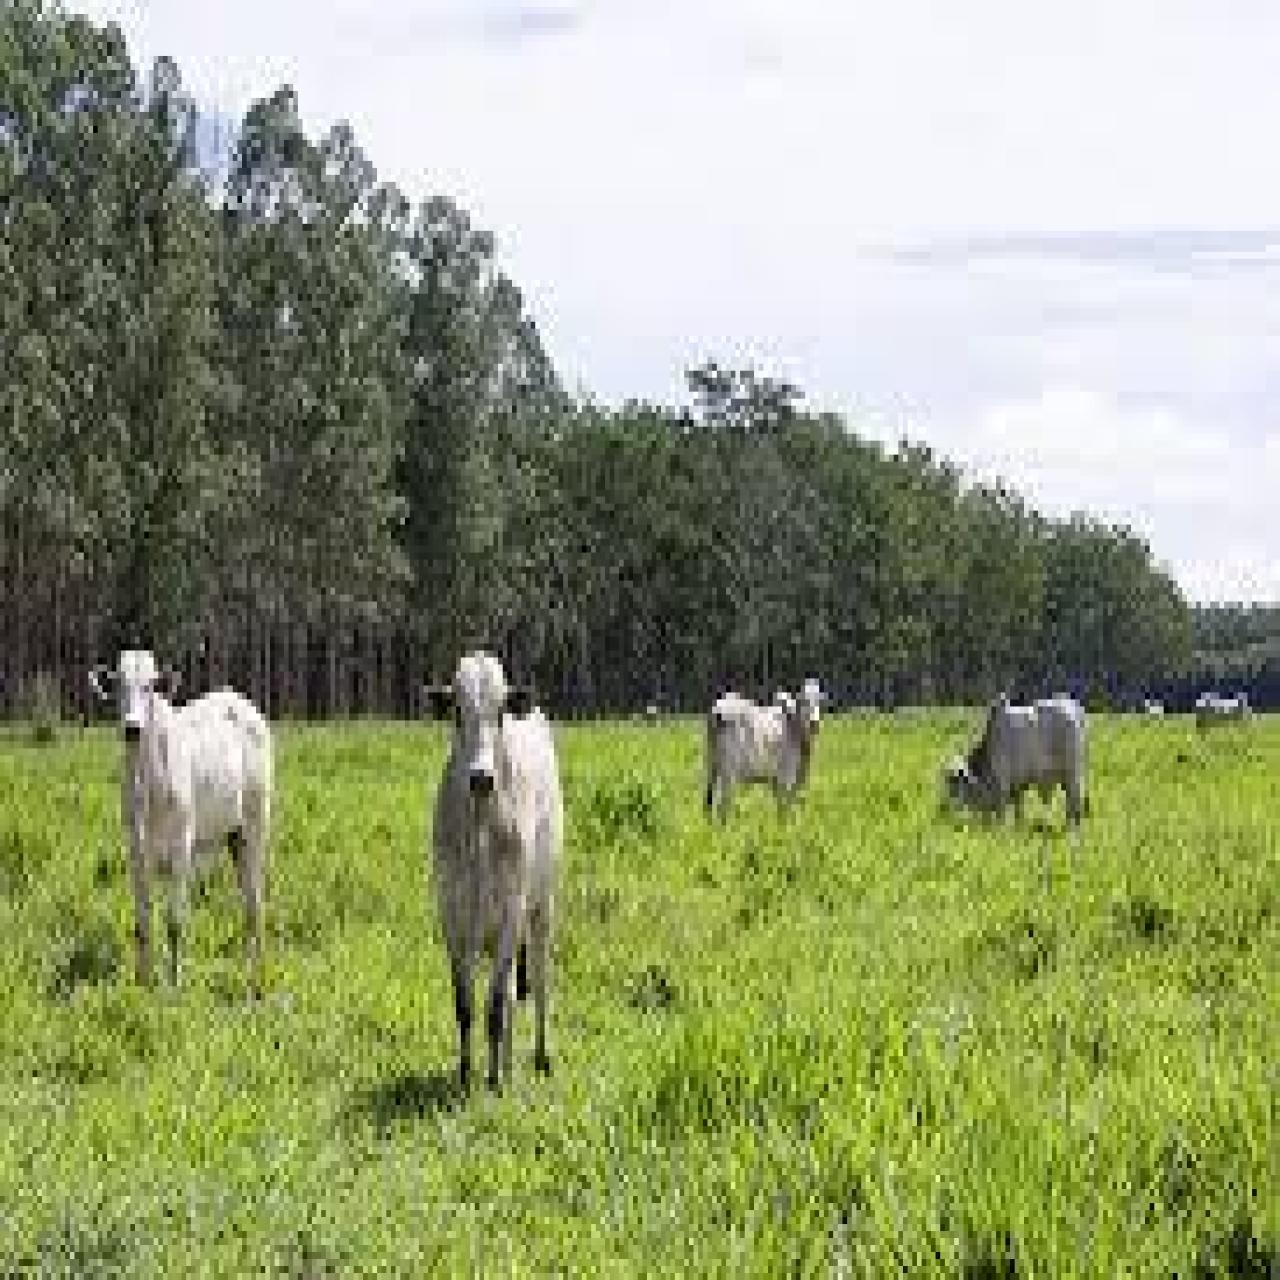cow: (421, 644, 566, 1091), (91, 644, 277, 986), (947, 689, 1091, 843), (707, 672, 824, 825)
